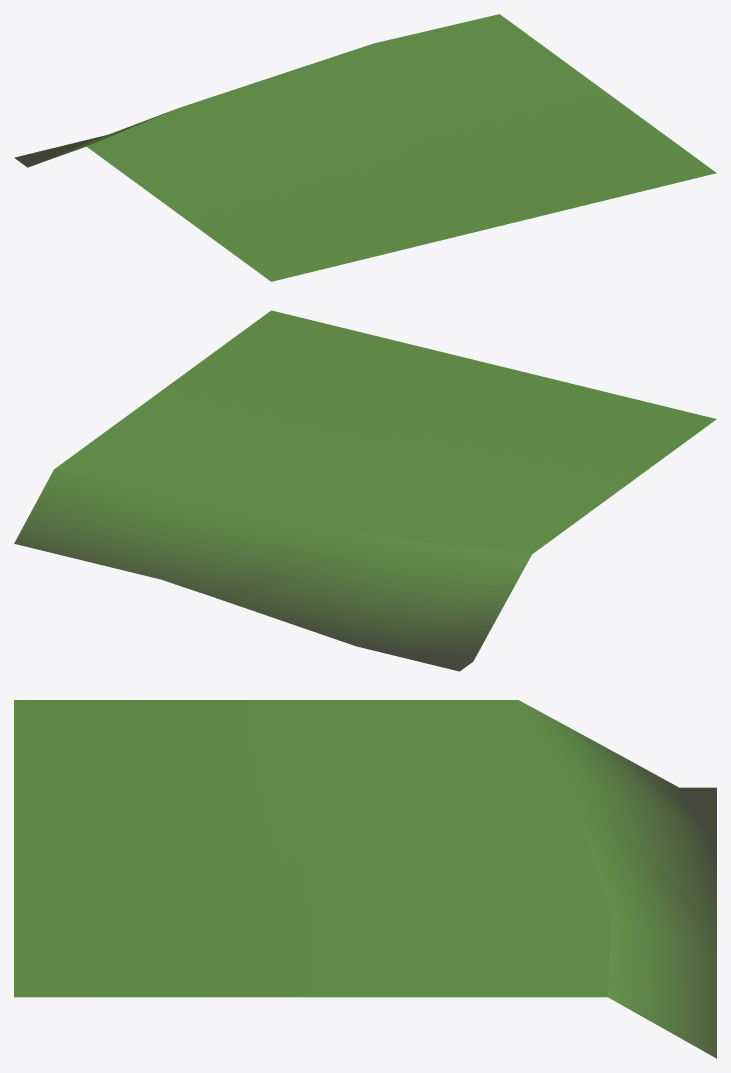
The model's file is terrain_16_8_2.glb.
3 views of the same model, one above another, from view 1: azimuth 30°, elevation 25°; view 2: azimuth 150°, elevation 25°; view 3: azimuth 270°, elevation 25° (orthographic). The views are drawn at different scales.
Parts seen in each view (by area): view 1: m; view 2: m; view 3: m.
Boxes of the visible parts, left/top/right/bottom form: m: left=14, top=14, right=716, bottom=281; m: left=14, top=310, right=716, bottom=671; m: left=14, top=700, right=716, bottom=1058.
Size of the model in its own units: 4 by 0.55 by 4.
